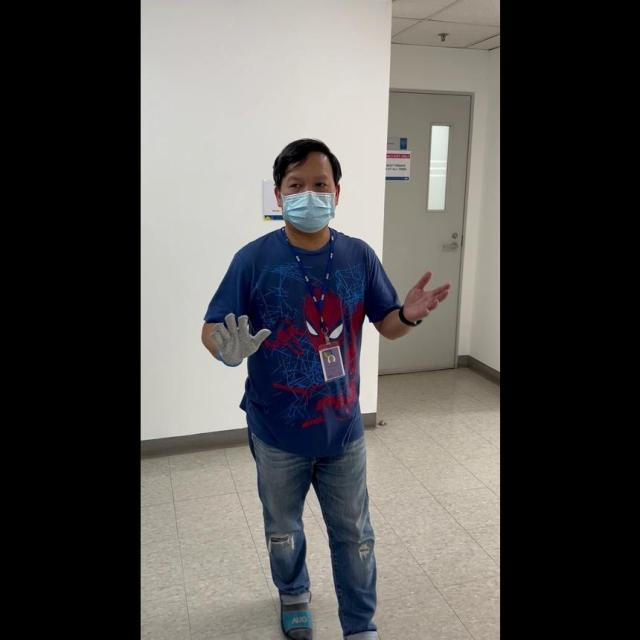bare_hand: (400, 265, 449, 324)
gloved_hand: (203, 307, 269, 368)
